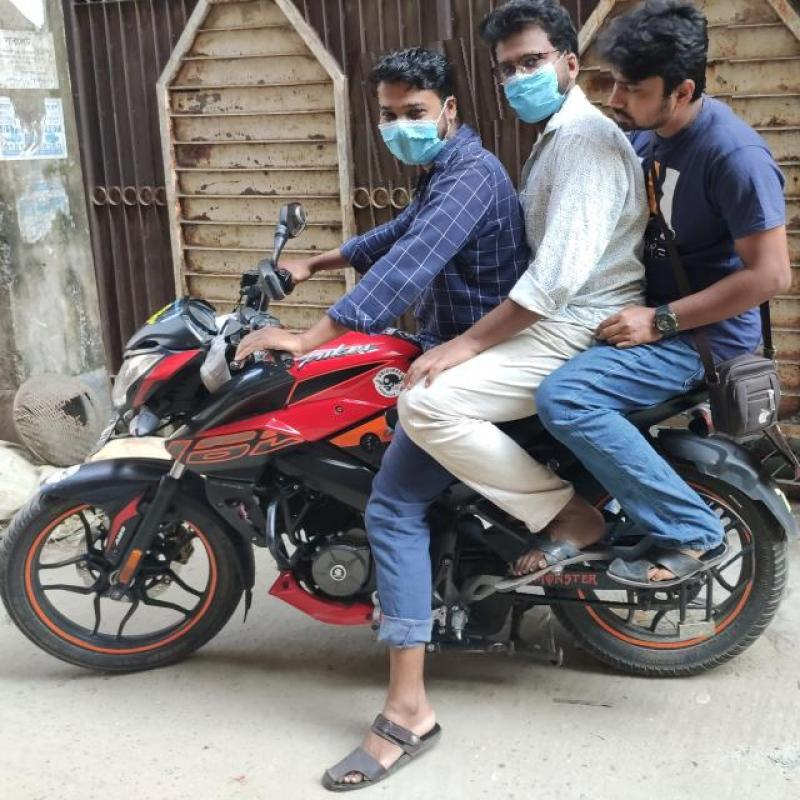nohelmet: (599, 7, 732, 130), (362, 41, 480, 179), (475, 6, 571, 118)
